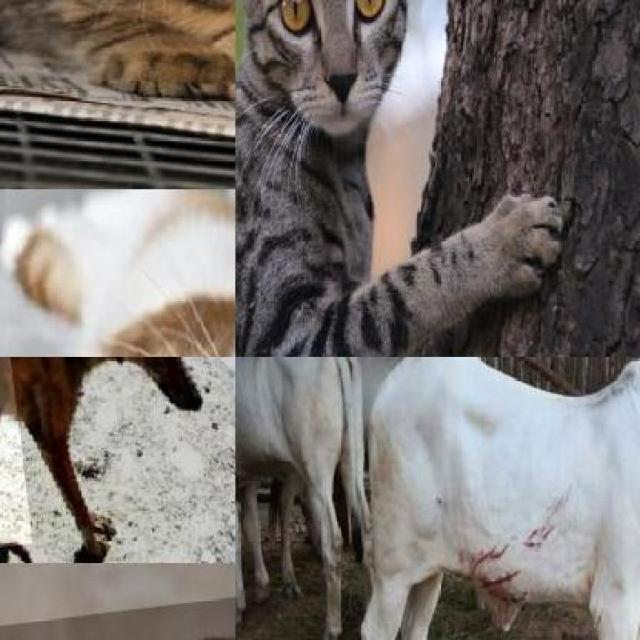cat: (235, 0, 548, 357), (0, 189, 235, 356), (0, 0, 235, 115), (0, 581, 235, 640)
cow: (364, 357, 640, 640), (235, 357, 363, 640)
dog: (0, 357, 235, 563)
injured: (0, 357, 32, 557)
